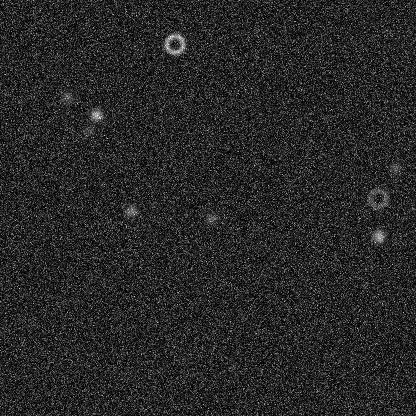Ring: (366, 186, 390, 210), (162, 32, 186, 56)
Spot: (369, 377, 385, 393), (203, 209, 219, 225), (387, 160, 403, 176), (80, 123, 96, 139), (59, 89, 75, 105), (370, 228, 386, 244), (123, 202, 139, 218), (87, 107, 103, 123)
